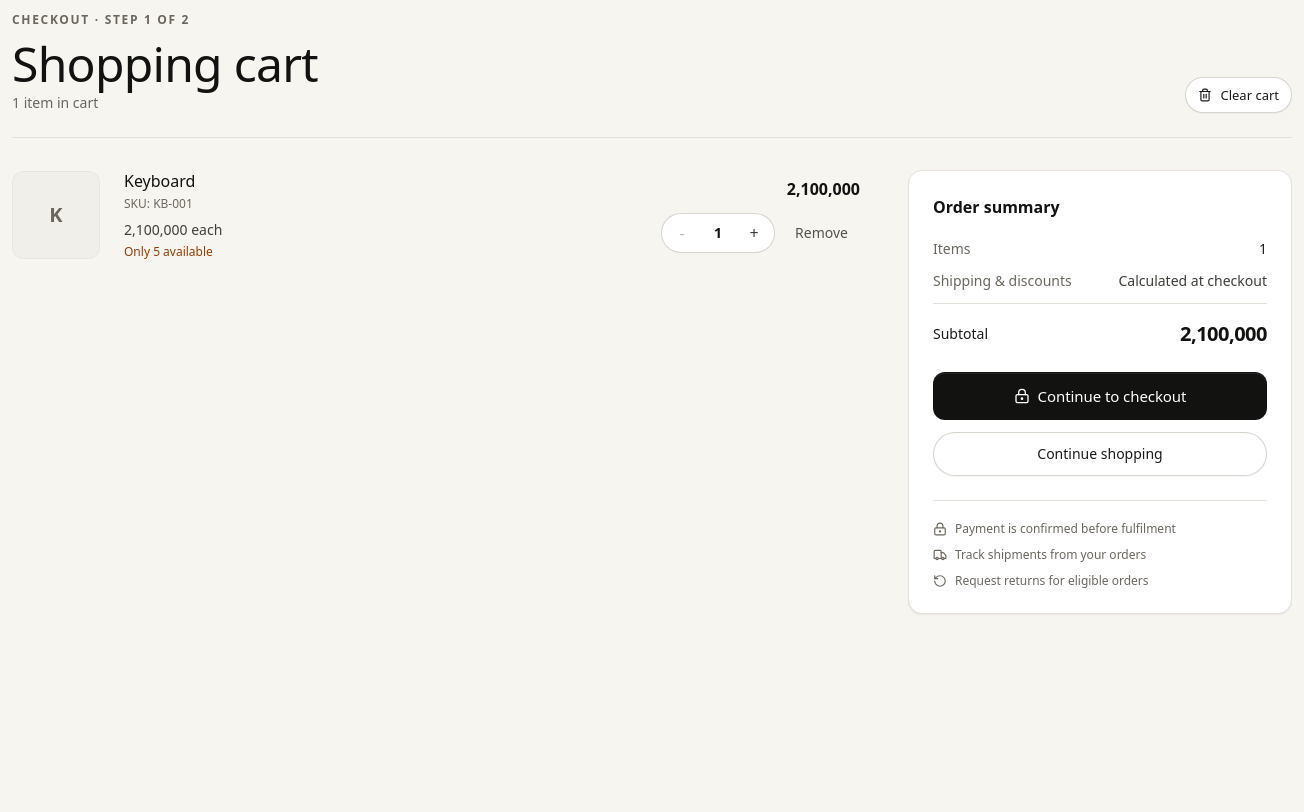
it: CartPanel › shows an empty cart after clear succeeds following a failed queued update
Check: the link "Keyboard" is shown, box left=124, top=170, right=195, bottom=192
What coordinates should you click on to do the following:
click the button "+"
I would click on:
 (754, 233)
Its box is left=734, top=213, right=774, bottom=253.
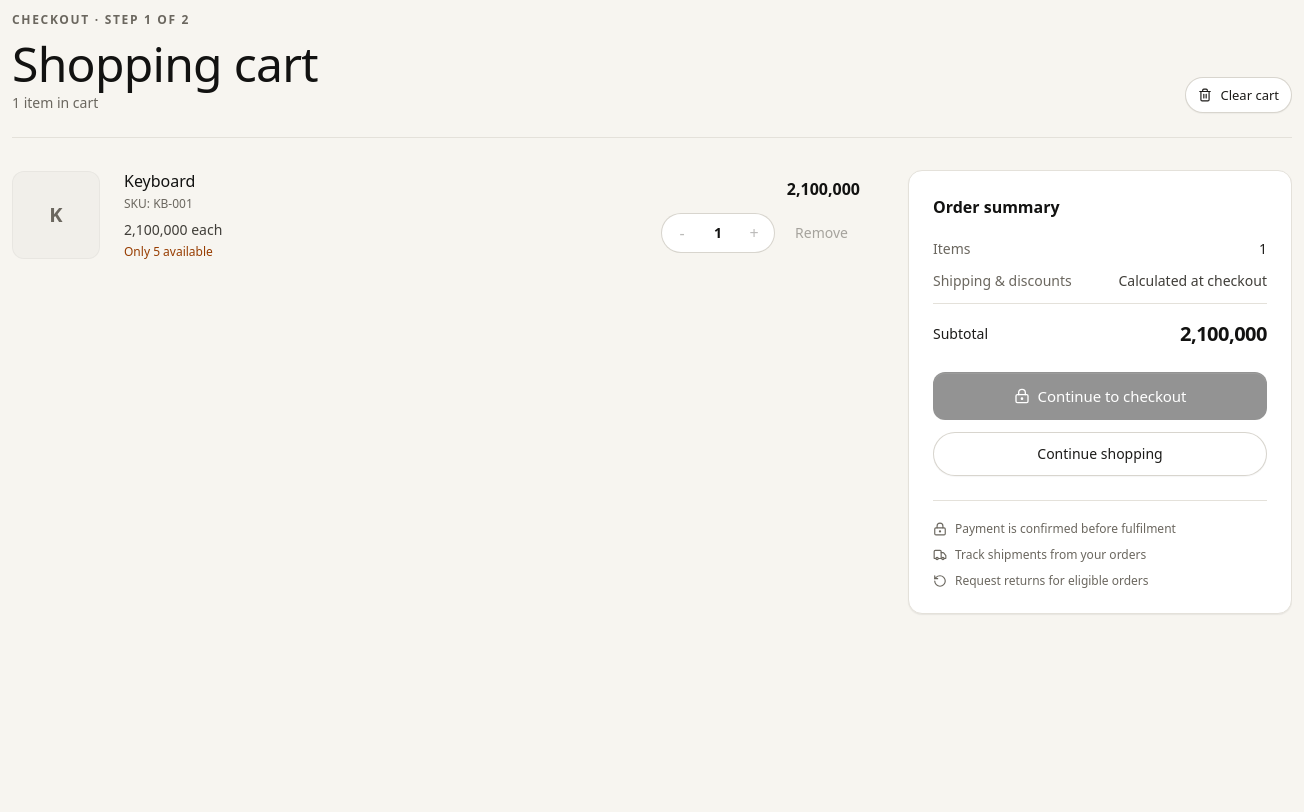
What coordinates should you click on to do the following:
click the button "Clear cart"
I would click on:
 (1239, 95)
Its box is left=1186, top=77, right=1292, bottom=113.
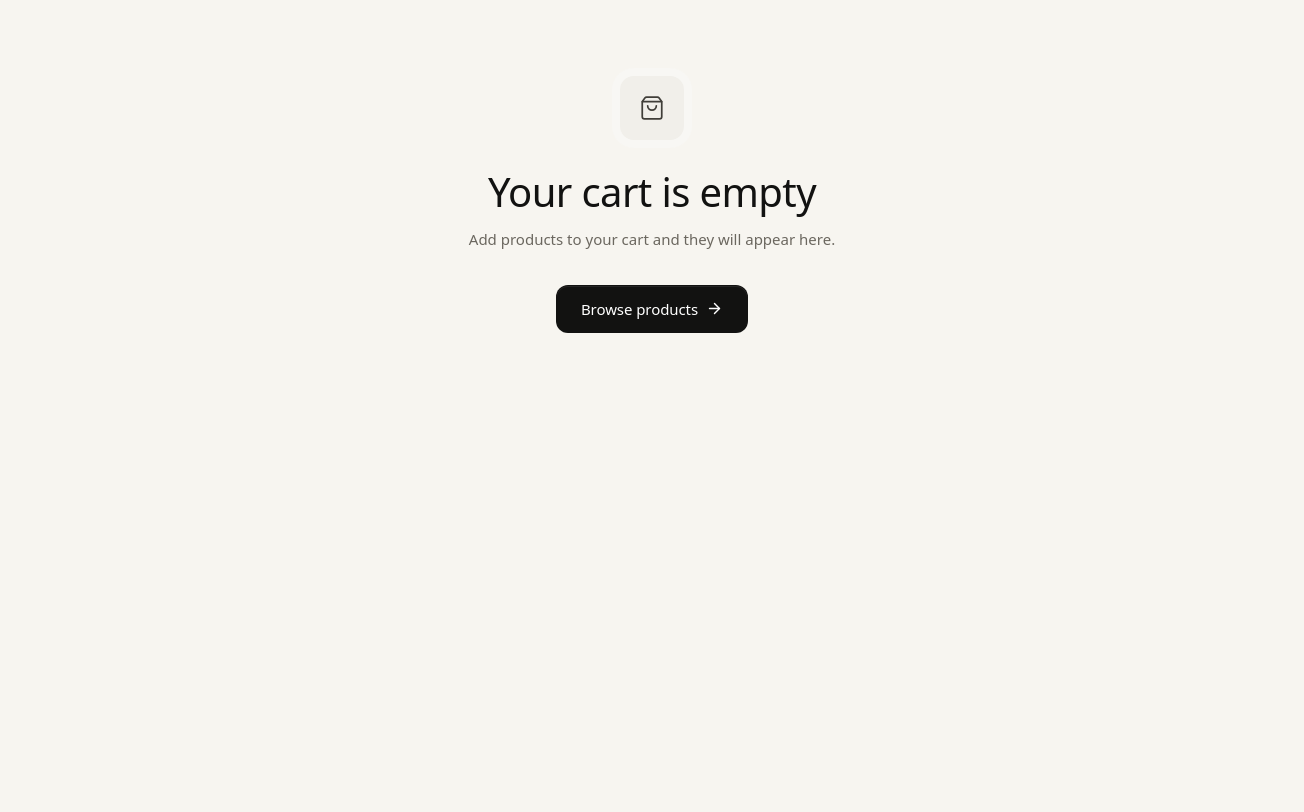
Check: the heading "Your cart is empty" is shown, box left=488, top=172, right=816, bottom=213
